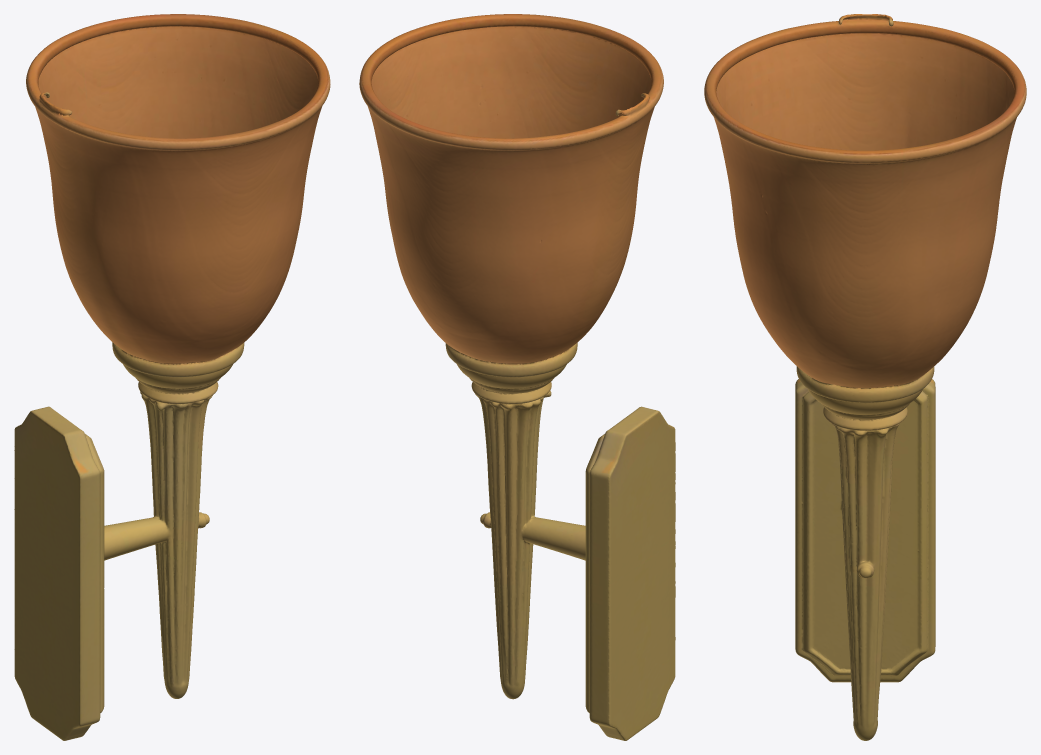
Rendered from wall_sconce_theater.glb.
3 views of the same model, side by side, from view 1: azimuth 30°, elevation 25°; view 2: azimuth 150°, elevation 25°; view 3: azimuth 270°, elevation 25° (orthographic). The views are drawn at different scales.
Parts seen in each view (by area): view 1: tripo_node_9a712be0-238b-4e72-98ca-de1d5813f3dc; view 2: tripo_node_9a712be0-238b-4e72-98ca-de1d5813f3dc; view 3: tripo_node_9a712be0-238b-4e72-98ca-de1d5813f3dc.
Boxes of the visible parts, left/top/right/bottom form: tripo_node_9a712be0-238b-4e72-98ca-de1d5813f3dc: left=14, top=14, right=330, bottom=740; tripo_node_9a712be0-238b-4e72-98ca-de1d5813f3dc: left=359, top=14, right=675, bottom=740; tripo_node_9a712be0-238b-4e72-98ca-de1d5813f3dc: left=704, top=14, right=1026, bottom=740.
Bounding box in the file's own units: 0.4407 × 1 × 0.4422.
Materials: 1 (1 with a texture image).
